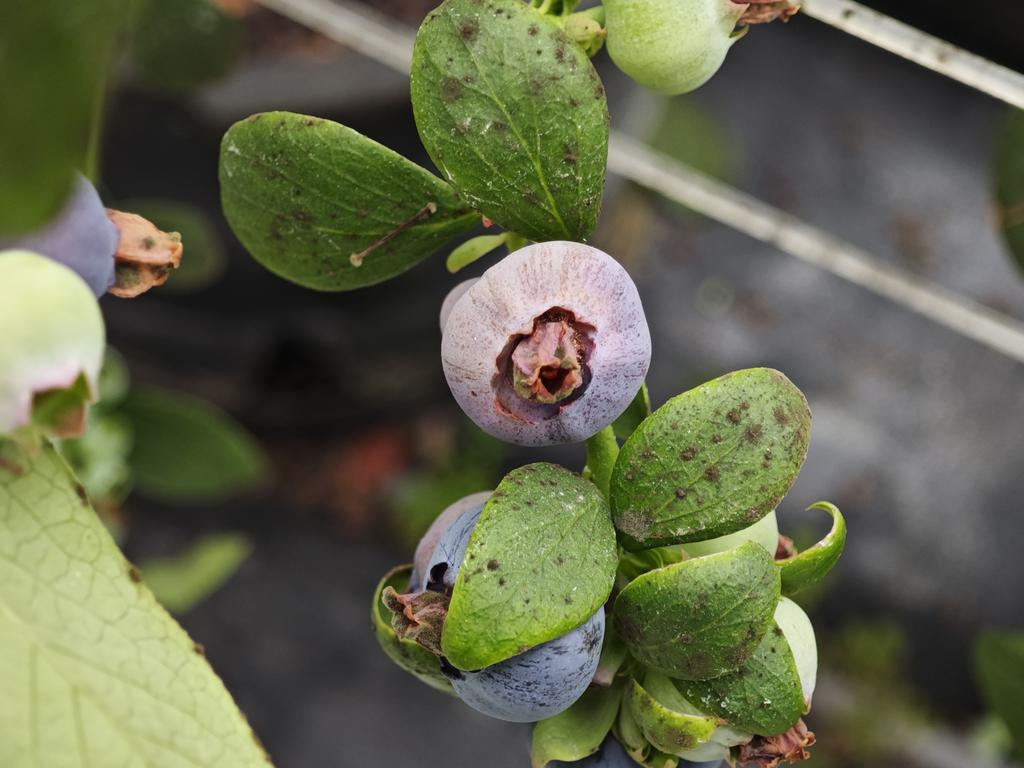Semi-RipeBlueBerry: (441, 240, 651, 448)
